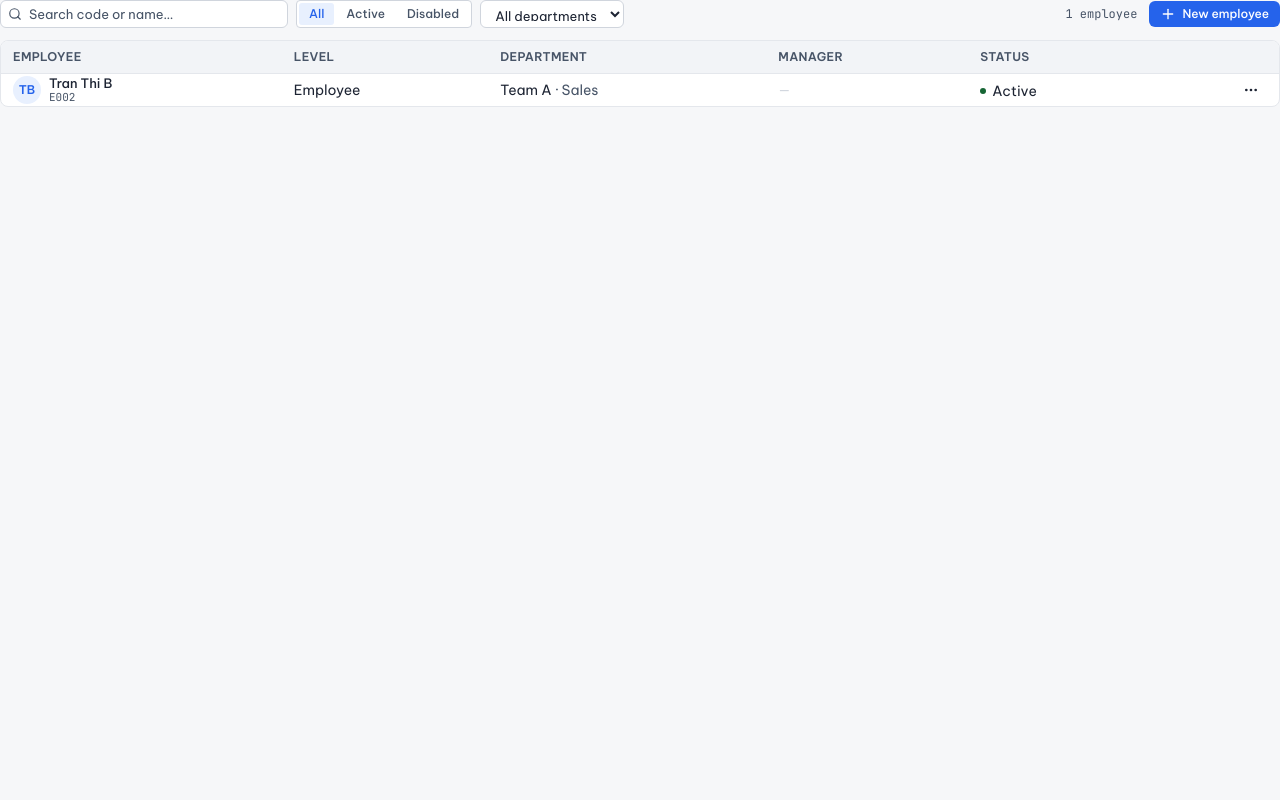
Scenario: UsersPanel: row actions › does nothing when the question is cancelled
The image size is (1280, 800).
Expected: the text "Tran Thi B" is shown, [49,74,112,91]
Click the button named "Actions for".
click(1251, 90)  # box [1235,74,1267,106]
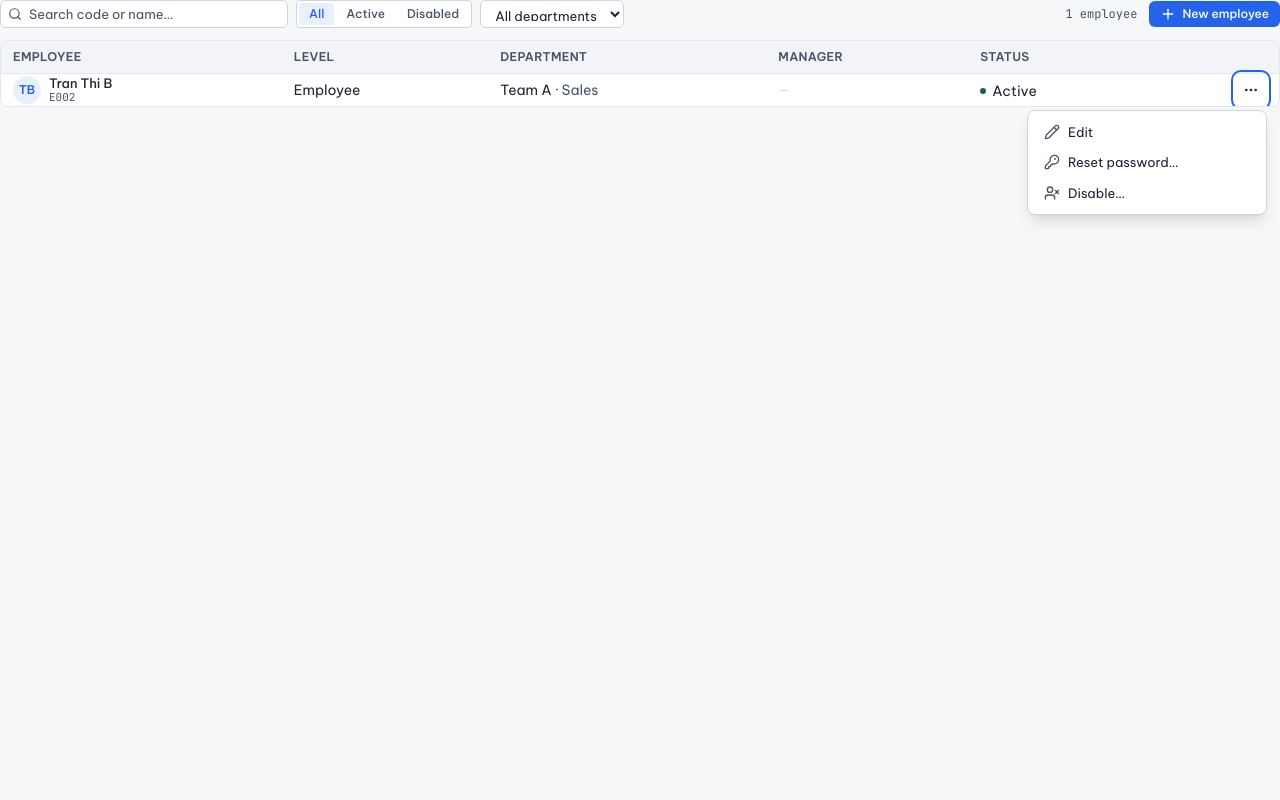
Click the menu item "Disable…".
click(1147, 193)  # box [1034,178,1260,208]
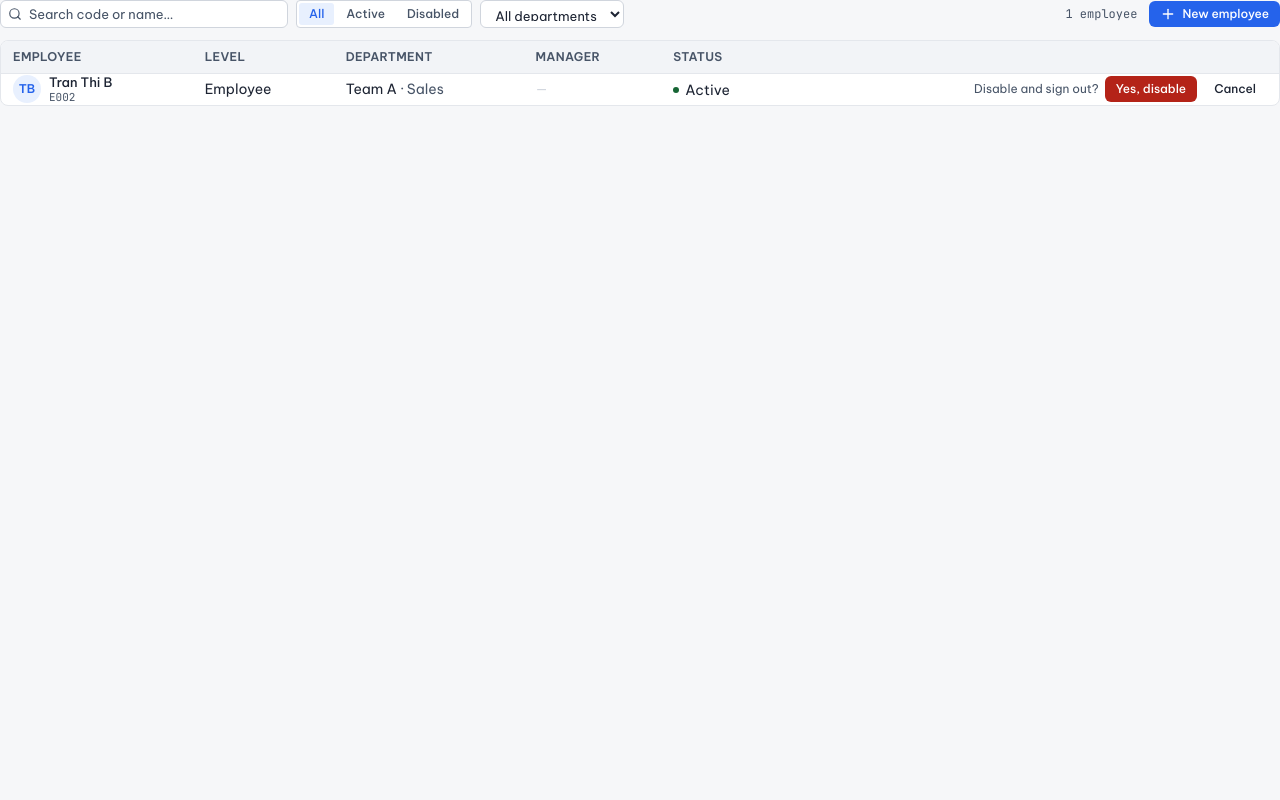
Click the button "Cancel".
click(1235, 89)  # box [1203,76,1267,102]
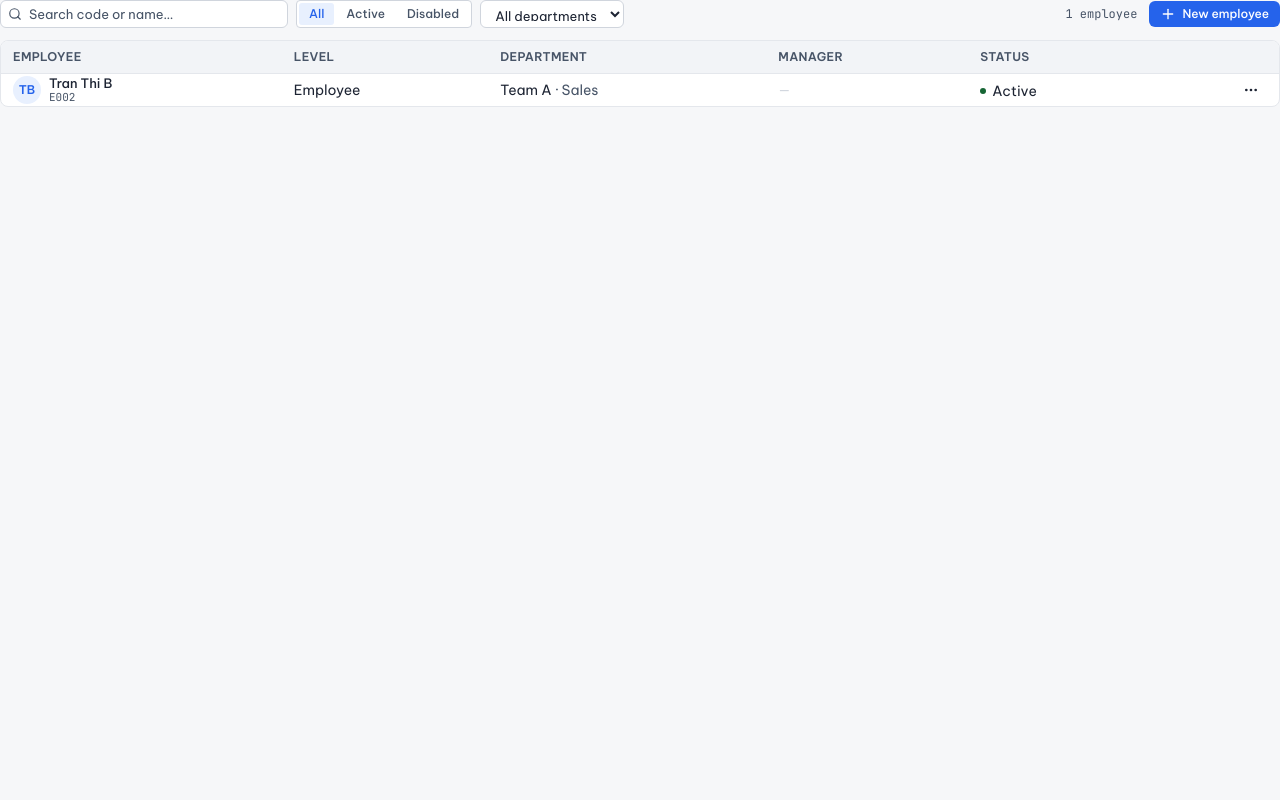
Result: the button named "Actions for" is shown at [1235,74,1267,106]
